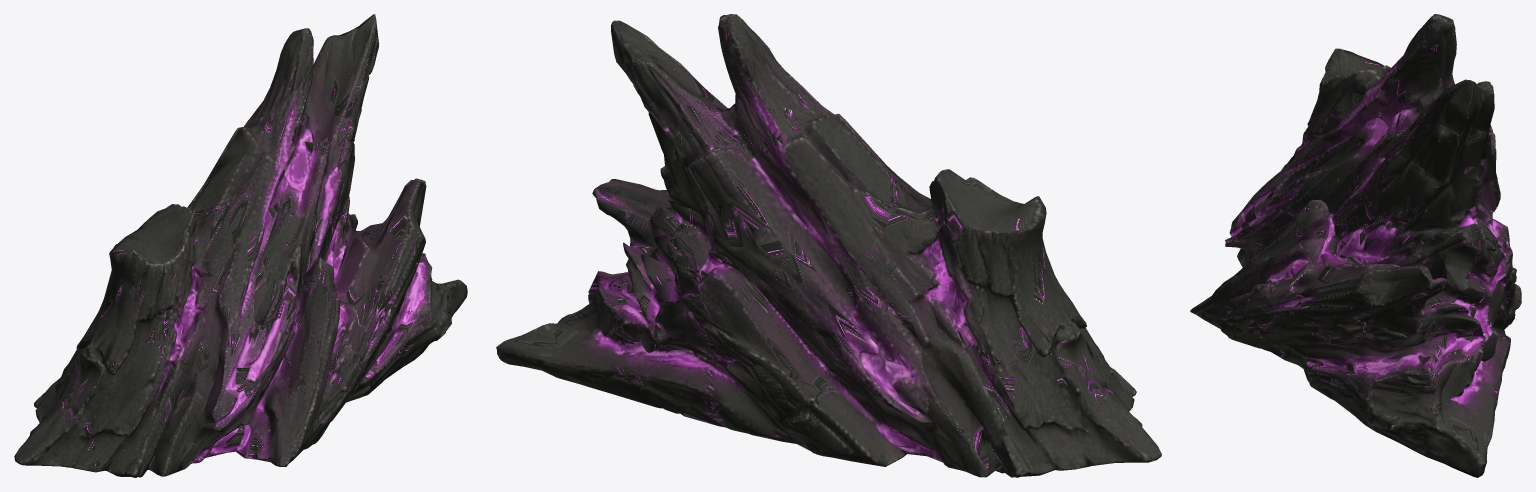
Rendered from glade-rock-lod.glb.
The picture shows the model from 3 angles, left to right: view 1: azimuth 30°, elevation 25°; view 2: azimuth 150°, elevation 25°; view 3: azimuth 270°, elevation 25°; orthographic projection. The views are drawn at different scales.
Visible parts, largest first — view 1: tripo_node_f5dcc90d-39fa-421c-9114-c763cabc4d19; view 2: tripo_node_f5dcc90d-39fa-421c-9114-c763cabc4d19; view 3: tripo_node_f5dcc90d-39fa-421c-9114-c763cabc4d19.
Part boxes in pixels (left/top/right/bottom): tripo_node_f5dcc90d-39fa-421c-9114-c763cabc4d19: left=14, top=14, right=467, bottom=477; tripo_node_f5dcc90d-39fa-421c-9114-c763cabc4d19: left=496, top=14, right=1161, bottom=477; tripo_node_f5dcc90d-39fa-421c-9114-c763cabc4d19: left=1190, top=14, right=1521, bottom=477.
Size of the model in its own units: 0.9821 by 0.6082 by 0.4942.
Materials: 1 (1 with a texture image).
